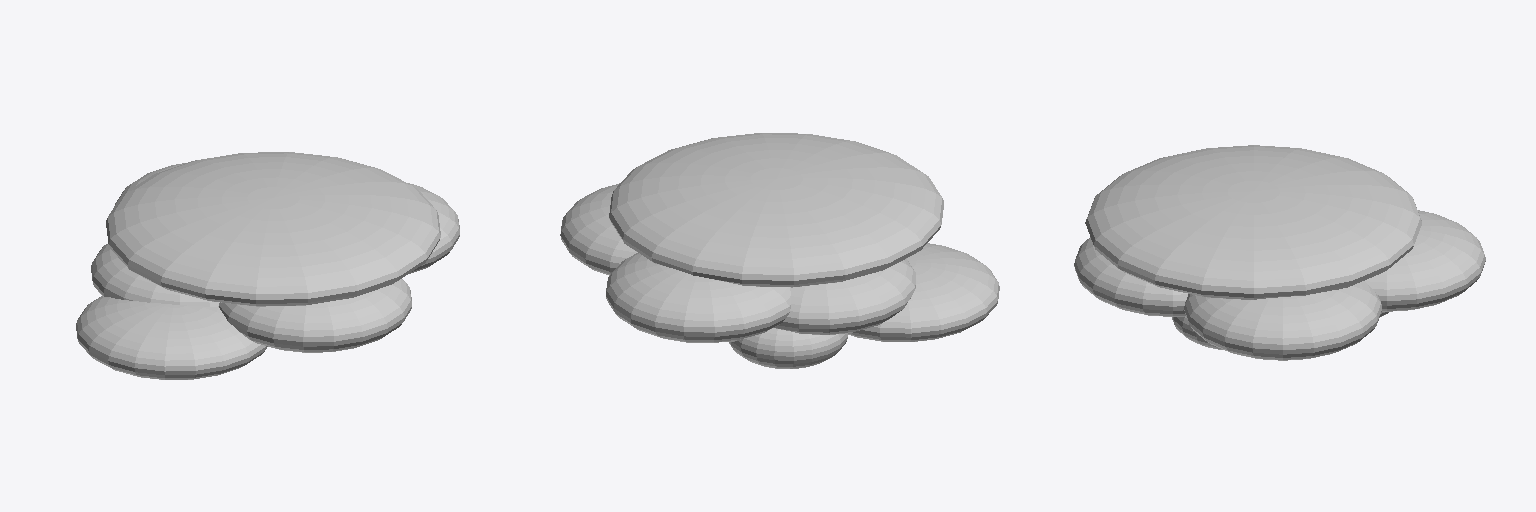
The model's file is Treetop_Temp.obj.
3 renders of one model, left to right at view 1: azimuth 30°, elevation 25°; view 2: azimuth 150°, elevation 25°; view 3: azimuth 270°, elevation 25°, orthographic.
Visible parts, largest first — view 1: treetop; view 2: treetop; view 3: treetop.
Boxes of the visible parts, box(x1,y1,x2,y2) form: treetop: box(76, 152, 459, 379); treetop: box(560, 133, 999, 368); treetop: box(1074, 145, 1485, 360).
Size of the model in its own units: 43.08 by 14.21 by 39.77.